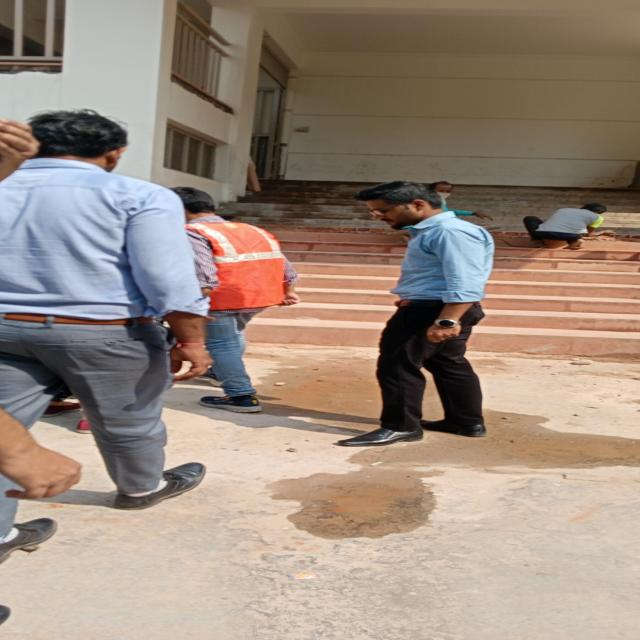unsafe: (2, 108, 228, 510), (342, 175, 492, 448)
